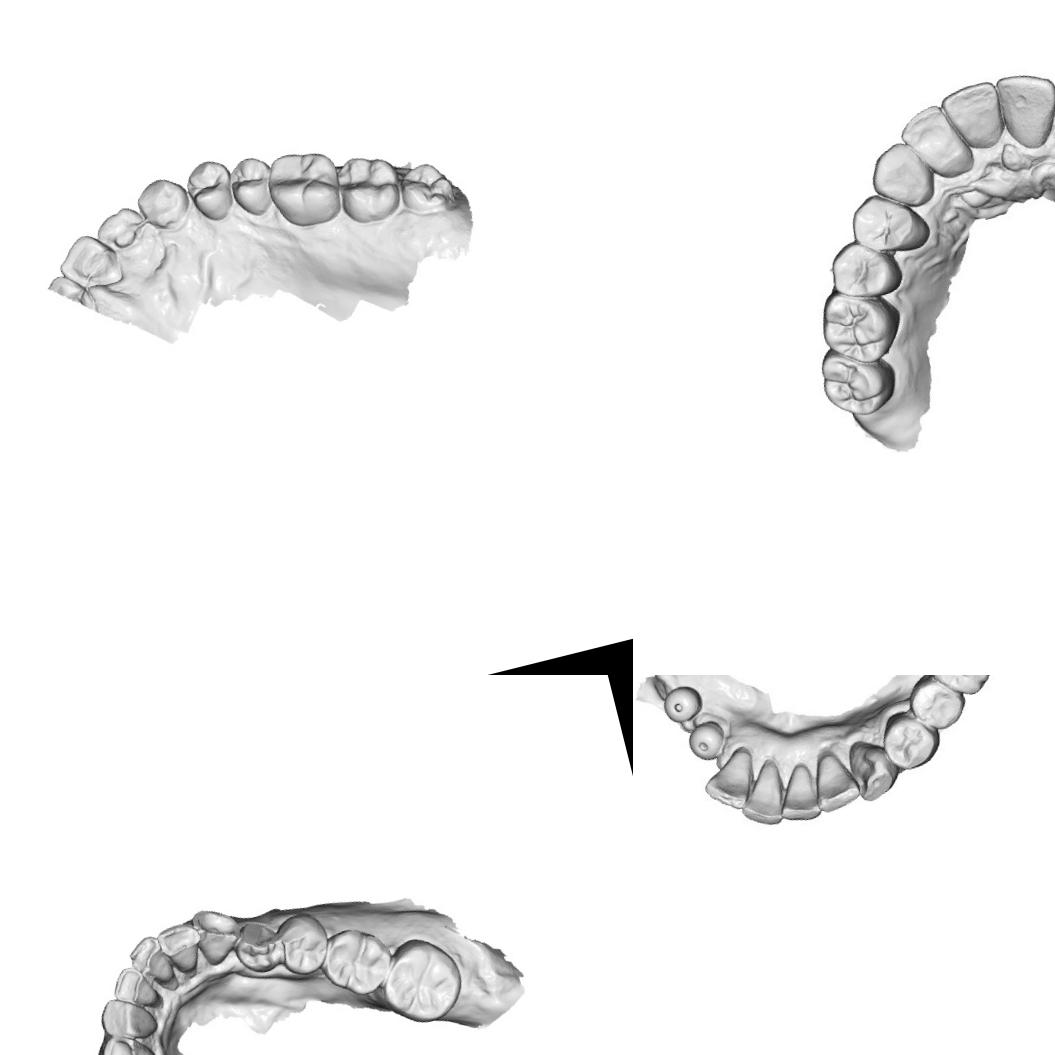canine: (860, 134, 940, 216), (840, 730, 900, 808), (187, 900, 249, 971), (133, 170, 199, 235), (92, 1026, 163, 1055)
implant: (652, 675, 708, 730), (684, 714, 730, 762)
incisor: (901, 101, 974, 185), (992, 62, 1055, 151), (50, 226, 124, 298), (696, 746, 763, 816), (941, 78, 1006, 150), (95, 988, 164, 1052), (732, 760, 788, 830), (88, 199, 154, 258), (151, 916, 210, 980), (808, 749, 863, 816), (770, 762, 824, 828), (124, 931, 180, 992), (106, 958, 163, 1014)
molar: (370, 927, 472, 1032), (260, 142, 350, 236), (314, 918, 400, 1005), (816, 284, 900, 369), (329, 146, 407, 230), (817, 340, 895, 419), (392, 154, 460, 222)
premolar: (846, 187, 928, 256), (827, 237, 900, 302), (180, 154, 242, 227), (272, 909, 334, 979), (228, 911, 288, 979), (224, 150, 282, 220), (878, 709, 937, 768), (910, 675, 964, 732), (930, 675, 993, 700)
